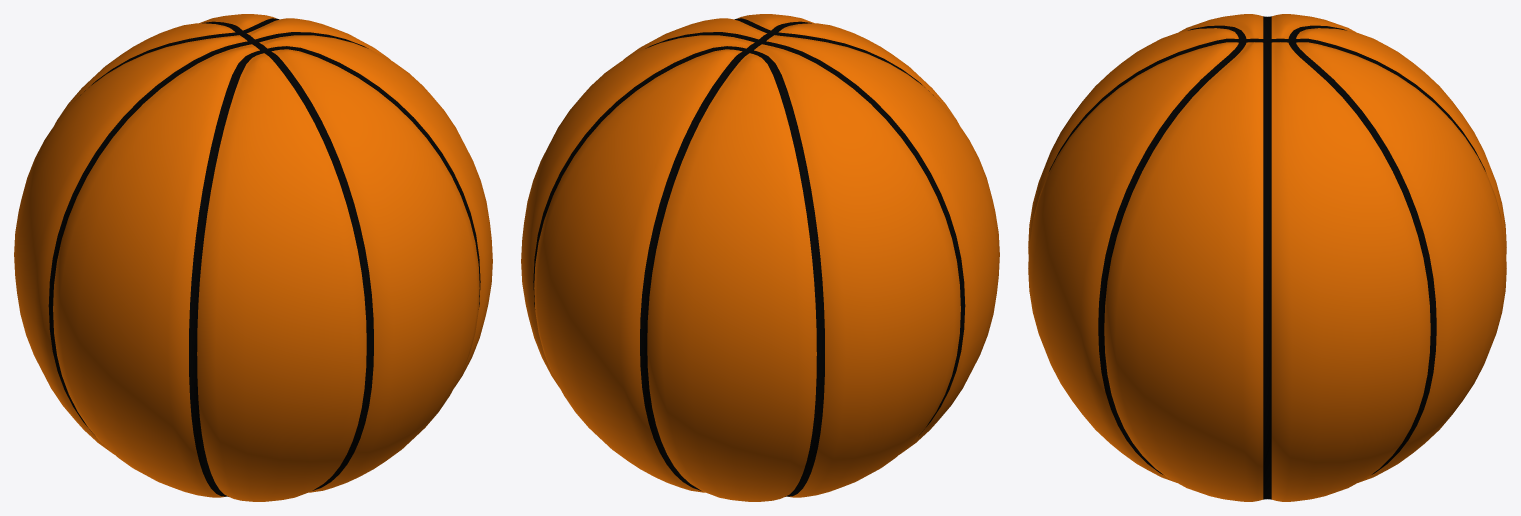
The model's file is Baketball_A01.fbx.
3 views of the same model, side by side, from view 1: azimuth 30°, elevation 25°; view 2: azimuth 150°, elevation 25°; view 3: azimuth 270°, elevation 25° (orthographic).
Parts seen in each view (by area): view 1: Sphere; view 2: Sphere; view 3: Sphere.
Boxes of the visible parts, box(x1,y1,x2,y2) form: Sphere: box(14, 14, 492, 501); Sphere: box(521, 14, 999, 501); Sphere: box(1028, 14, 1506, 501).
Size of the model in its own units: 193 by 196 by 193.
